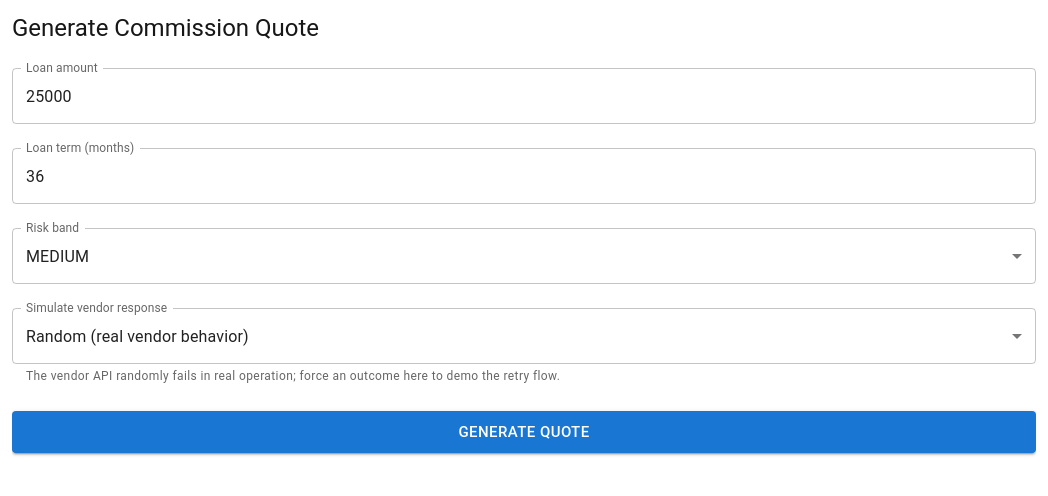
it: QuoteForm › shows a validation error for a non-integer loan term
Replace the text in the number field labelled "Loan term (months)" with "2.5": (524, 176) [12,148,1036,204]
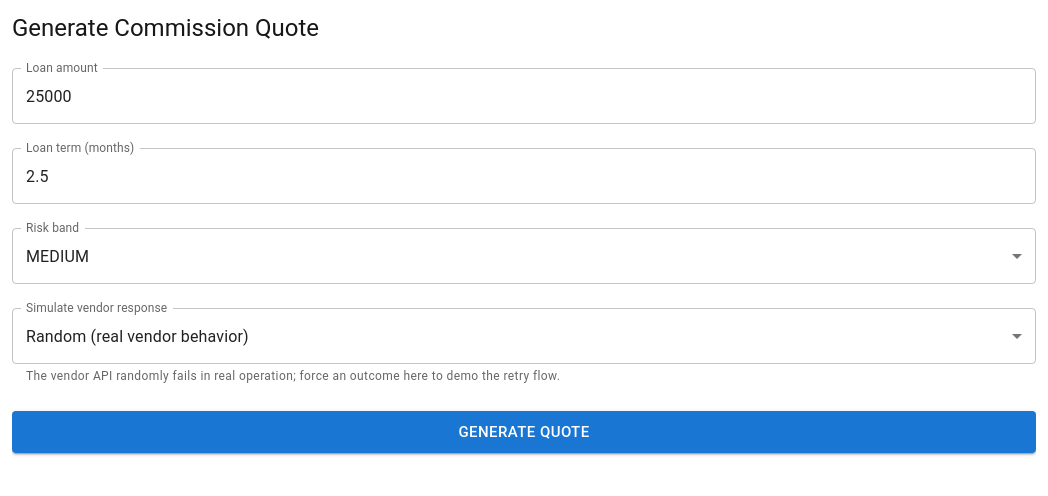
Click the button "Generate Quote": (524, 432) [12,411,1036,453]
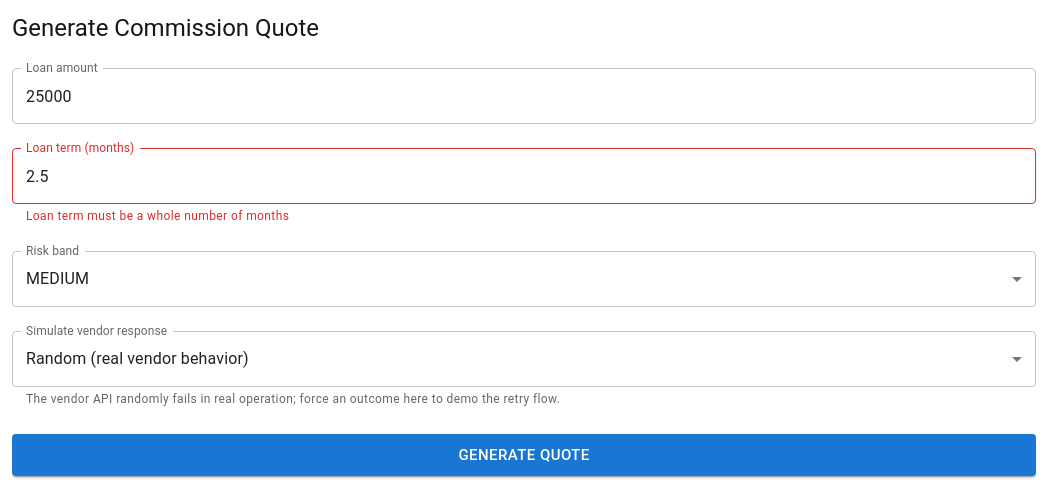
Check: the text "Loan term must be a whole number of months" is shown, box [26,209,289,223]
